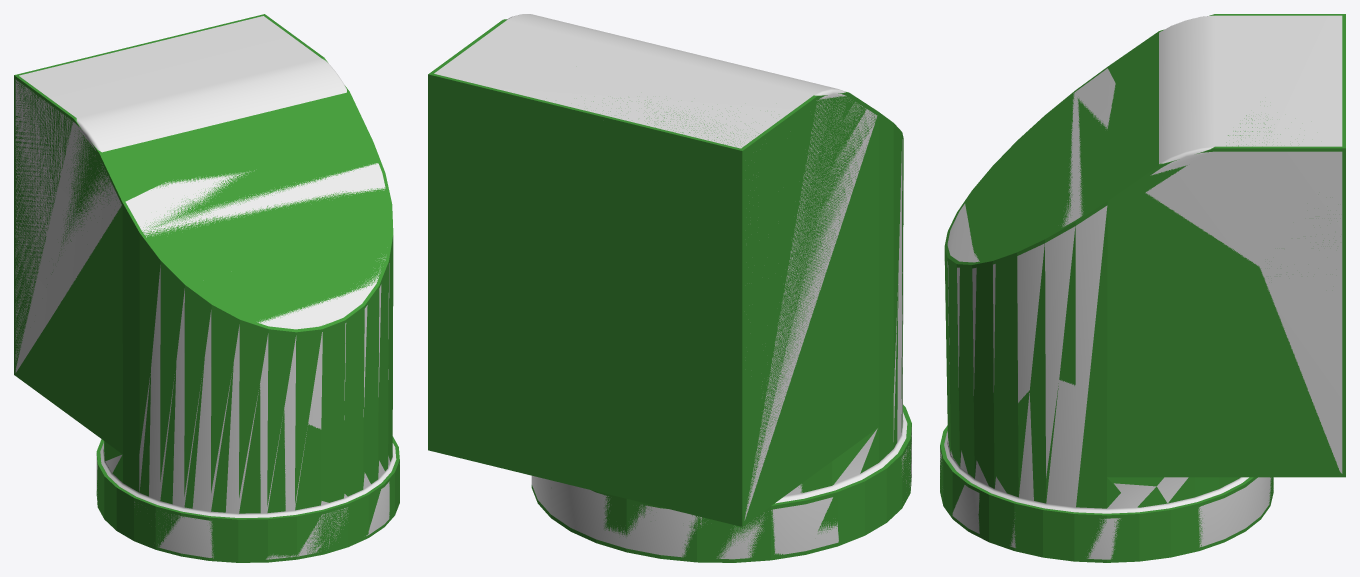
The model's file is DuctTubeAdapterTall_01_Mesh.fbx.
3 views of the same model, side by side, from view 1: azimuth 30°, elevation 25°; view 2: azimuth 150°, elevation 25°; view 3: azimuth 270°, elevation 25° (orthographic). The views are drawn at different scales.
Parts seen in each view (by area): view 1: Duct_TubeAdapterTall_01_Col, Duct_TubeAdapterTall_01_LOD0; view 2: Duct_TubeAdapterTall_01_Col, Duct_TubeAdapterTall_01_LOD0; view 3: Duct_TubeAdapterTall_01_Col, Duct_TubeAdapterTall_01_LOD0.
Boxes of the visible parts, left/top/right/bottom form: Duct_TubeAdapterTall_01_Col: left=14, top=14, right=399, bottom=562; Duct_TubeAdapterTall_01_LOD0: left=15, top=16, right=396, bottom=559; Duct_TubeAdapterTall_01_Col: left=428, top=19, right=911, bottom=562; Duct_TubeAdapterTall_01_LOD0: left=434, top=14, right=911, bottom=559; Duct_TubeAdapterTall_01_Col: left=940, top=14, right=1345, bottom=562; Duct_TubeAdapterTall_01_LOD0: left=940, top=15, right=1342, bottom=559.
Size of what is drawn, in the model's own units: 73.48 by 99.96 by 89.36.
